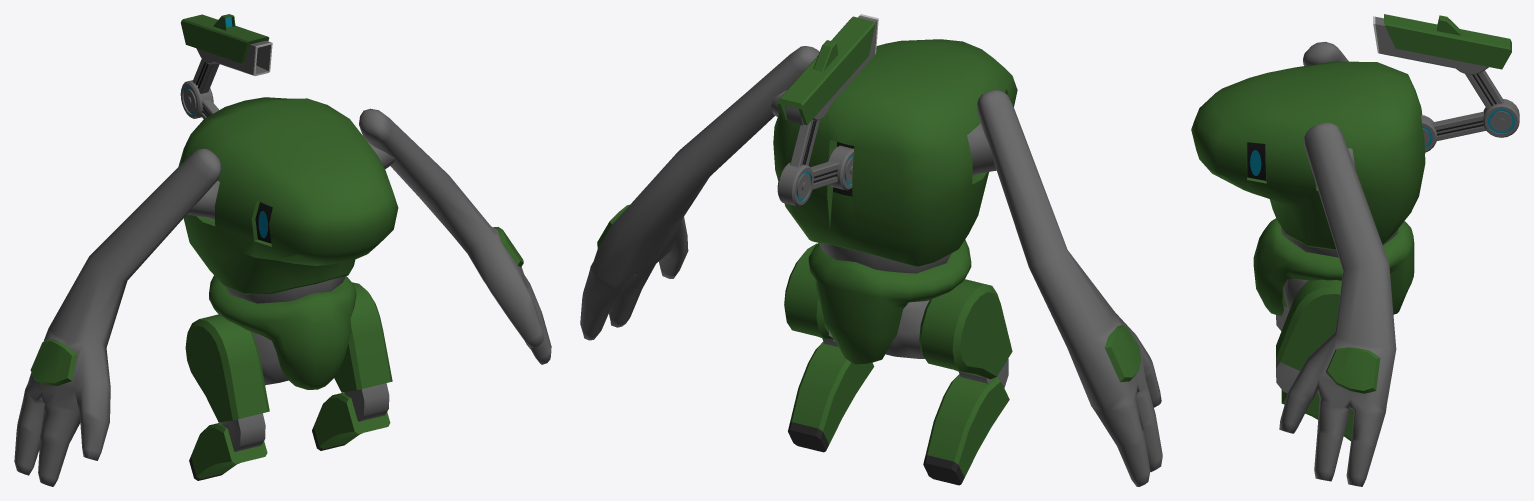
The model's file is Jump.fbx.
3 views of the same model, side by side, from view 1: azimuth 30°, elevation 25°; view 2: azimuth 150°, elevation 25°; view 3: azimuth 270°, elevation 25° (orthographic). The views are drawn at different scales.
Parts seen in each view (by area): view 1: atama3, L_ude3, L_ude4, kosi2, L_asi7, L_asi10, pCylinder17, L_asi9, L_asi8, pCylinder19; view 2: atama3, L_ude3, L_ude4, kosi2, L_asi7, L_asi8, pCylinder17, L_asi9, L_asi10, pCylinder19, pCylinder18, pCylinder16; view 3: atama3, L_ude4, kosi2, pCylinder17, L_asi10, pCylinder19, pCylinder15, L_ude3, pCylinder18, L_asi9, pCylinder16.
Boxes of the visible parts, bbox=[...] form: atama3: bbox=[178, 97, 398, 303]; L_ude3: bbox=[14, 148, 220, 486]; L_ude4: bbox=[359, 108, 551, 364]; kosi2: bbox=[209, 275, 356, 389]; L_asi7: bbox=[185, 314, 269, 451]; L_asi10: bbox=[334, 282, 392, 421]; pCylinder17: bbox=[181, 14, 272, 76]; L_asi9: bbox=[312, 392, 390, 450]; L_asi8: bbox=[189, 422, 267, 480]; pCylinder19: bbox=[180, 80, 213, 118]; atama3: bbox=[770, 39, 1017, 273]; L_ude3: bbox=[977, 90, 1162, 486]; L_ude4: bbox=[580, 46, 819, 340]; kosi2: bbox=[808, 239, 971, 364]; L_asi7: bbox=[919, 279, 1012, 387]; L_asi8: bbox=[923, 374, 1009, 485]; pCylinder17: bbox=[777, 14, 878, 125]; L_asi9: bbox=[788, 342, 874, 452]; L_asi10: bbox=[784, 243, 838, 347]; pCylinder19: bbox=[777, 162, 813, 206]; pCylinder18: bbox=[790, 120, 819, 167]; pCylinder16: bbox=[827, 145, 853, 190]; atama3: bbox=[1191, 61, 1425, 257]; L_ude4: bbox=[1279, 122, 1396, 486]; kosi2: bbox=[1253, 218, 1414, 315]; pCylinder17: bbox=[1373, 14, 1511, 74]; L_asi10: bbox=[1276, 279, 1341, 393]; pCylinder19: bbox=[1483, 99, 1519, 137]; pCylinder15: bbox=[1433, 111, 1485, 140]; L_ude3: bbox=[1303, 41, 1348, 65]; pCylinder18: bbox=[1465, 70, 1503, 109]; L_asi9: bbox=[1281, 390, 1354, 440]; pCylinder16: bbox=[1421, 115, 1437, 152].
Size of the model in its own units: 3.99 by 3.05 by 2.29.
